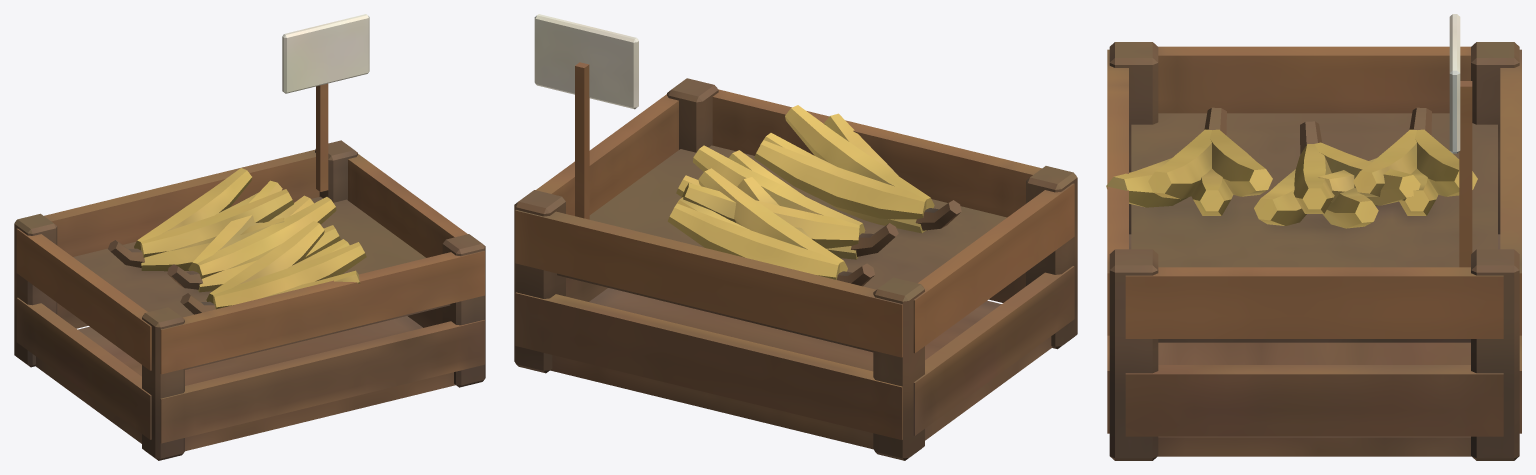
The model's file is crate_bananas.glb.
3 renders of one model, left to right at view 1: azimuth 30°, elevation 25°; view 2: azimuth 150°, elevation 25°; view 3: azimuth 270°, elevation 25°, orthographic. The views are drawn at different scales.
Visible parts, largest first — view 1: crate_bananas; view 2: crate_bananas; view 3: crate_bananas.
Part boxes in pixels (x1,y1,x2,y2): crate_bananas: (14,14,485,460); crate_bananas: (514,14,1077,460); crate_bananas: (1106,14,1521,460).
Size of the model in its own units: 0.507 by 0.4025 by 0.3852.
Materials: 4 (4 with a texture image).
